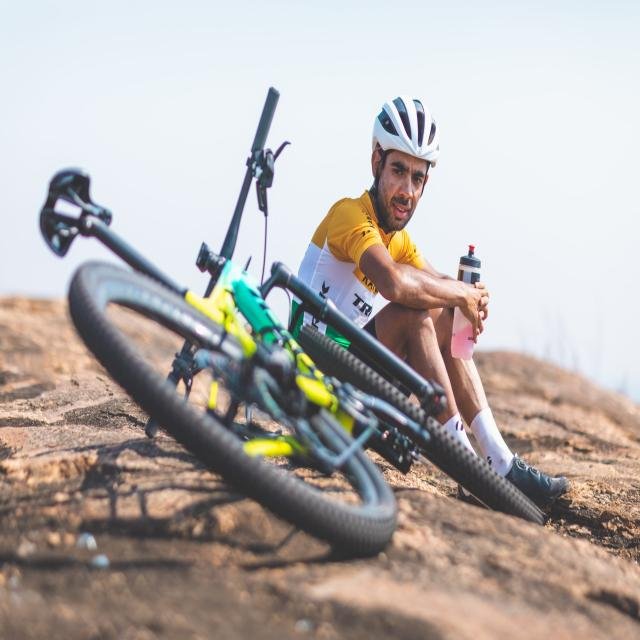bicycle: (40, 88, 544, 557)
